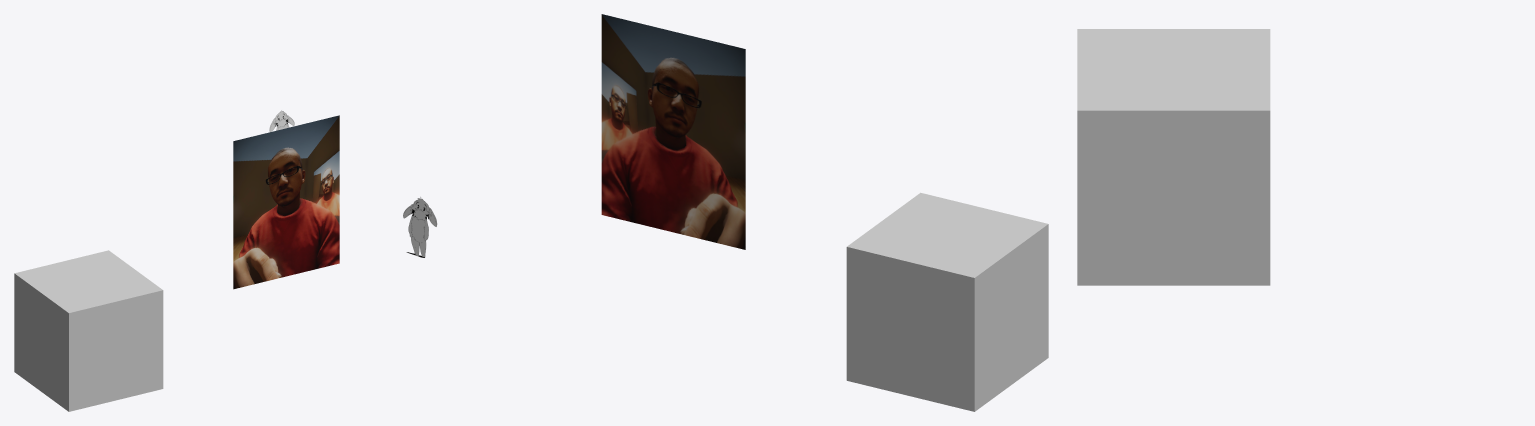
3 views of the same model, side by side, from view 1: azimuth 30°, elevation 25°; view 2: azimuth 150°, elevation 25°; view 3: azimuth 270°, elevation 25° (orthographic). The views are drawn at different scales.
Parts seen in each view (by area): view 1: Cube, IMG_0012, IMG_1535; view 2: Cube, IMG_0012, IMG_1535; view 3: Cube.
Boxes of the visible parts, x1,y1,x2,y2 form: Cube: (14,250,163,411); IMG_0012: (233,115,339,289); IMG_1535: (269,110,294,132); Cube: (846,192,1048,411); IMG_0012: (601,14,745,249); IMG_1535: (403,197,436,257); Cube: (1077,29,1270,285).
Bounding box in the file's own units: 7.98 × 4.34 × 4.59.
3 materials, 2 textured.
